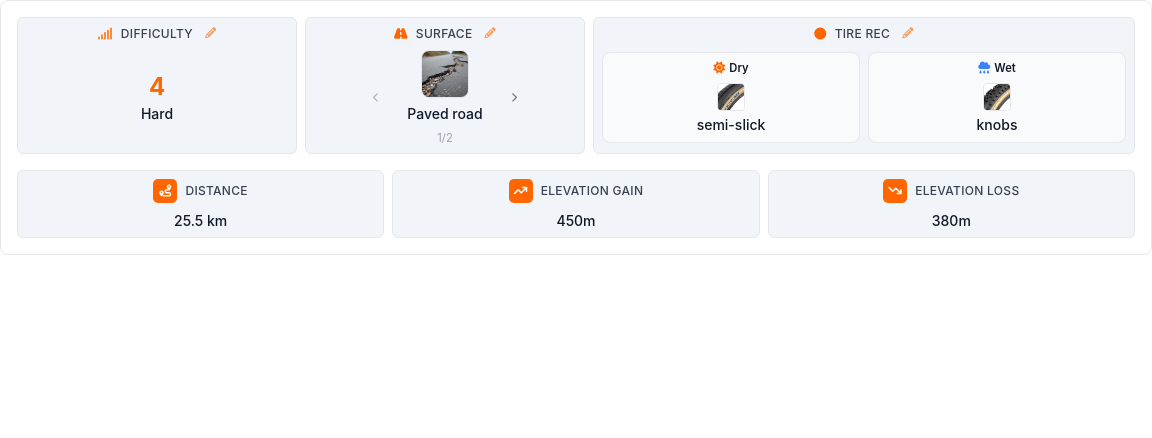
Test: RouteInfoCard › Editing Functionality › Tire Editor › should open tire editor when clicking on tire item
Click the element with class "editable" that starts with "Tire Rec".
click(864, 85)  # box [593, 17, 1135, 154]
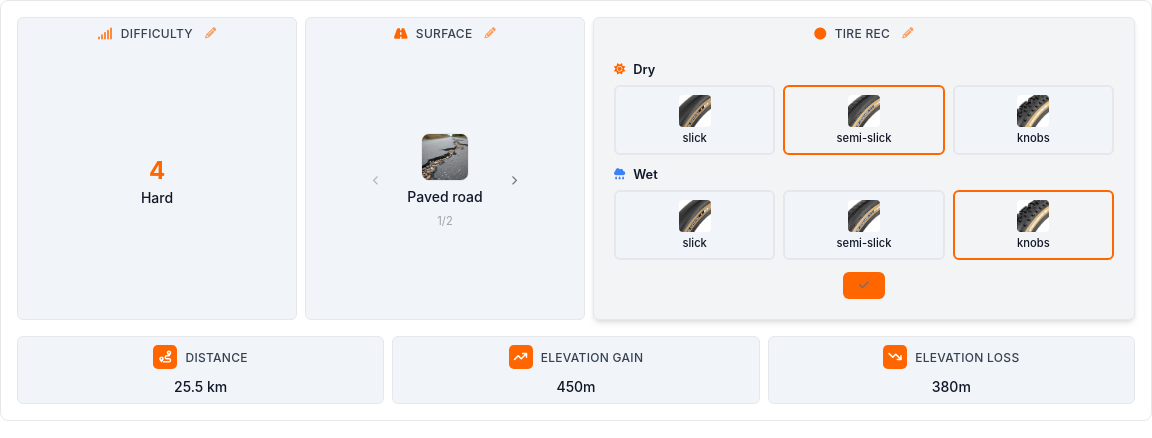
Result: the element with class "tire-editor" is shown at [602, 50, 1126, 311]
